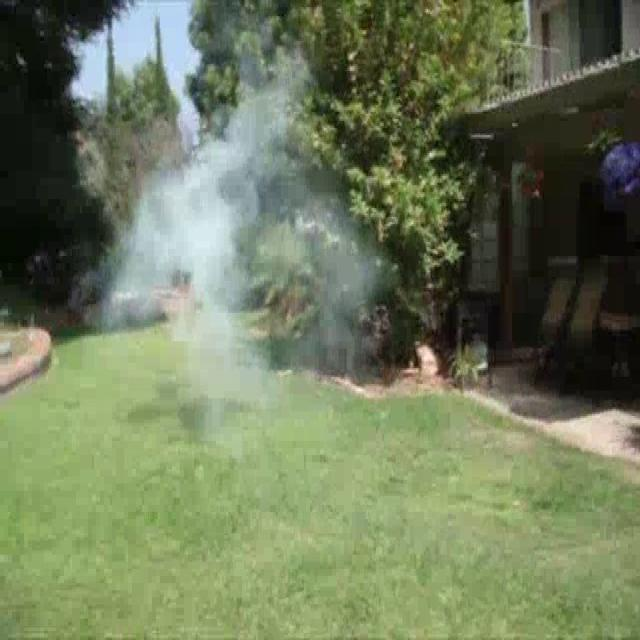Smoke: (74, 4, 316, 464), (238, 46, 394, 374)
